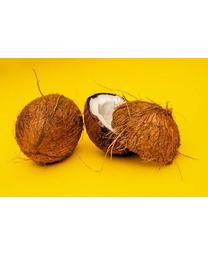coconut: (15, 94, 82, 164), (111, 101, 180, 166), (85, 93, 141, 157)
